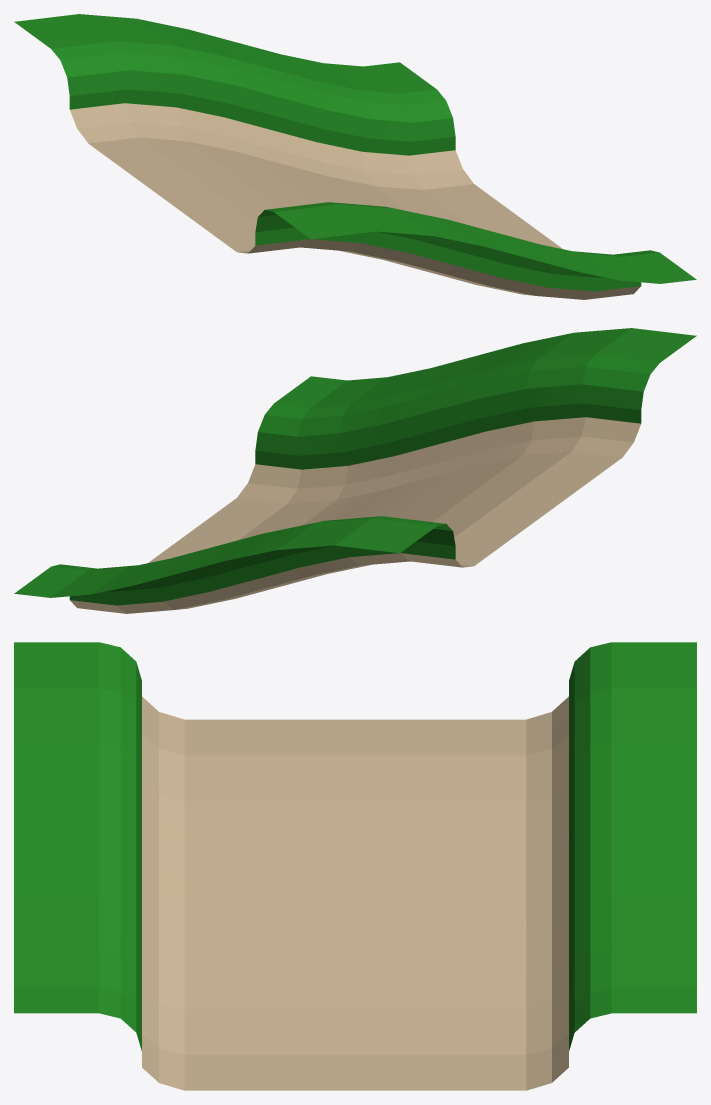
Rendered from Track_Standard_Incline_Double.obj.
The picture shows the model from 3 angles, top to bottom: view 1: azimuth 30°, elevation 25°; view 2: azimuth 150°, elevation 25°; view 3: azimuth 270°, elevation 25°; orthographic projection. The views are drawn at different scales.
Parts seen in each view (by area): view 1: Grass, Dirt; view 2: Grass, Dirt; view 3: Dirt, Grass.
Boxes of the visible parts, box(x1,y1,x2,y2) form: Grass: box(14, 14, 696, 291); Dirt: box(70, 103, 640, 299); Grass: box(14, 328, 696, 605); Dirt: box(70, 417, 640, 613); Dirt: box(142, 696, 568, 1090); Grass: box(14, 642, 696, 1050).
Size of the model in its own units: 3 by 1.5 by 4.
